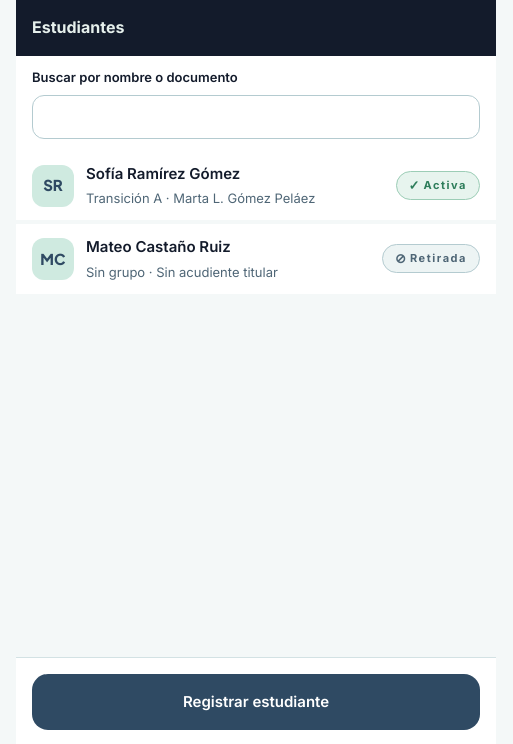
Test case: listado de estudiantes (HU01-E3) › lleva al registro de un estudiante
Click the link "Registrar estudiante" at (256, 702), box [32,674,480,730]
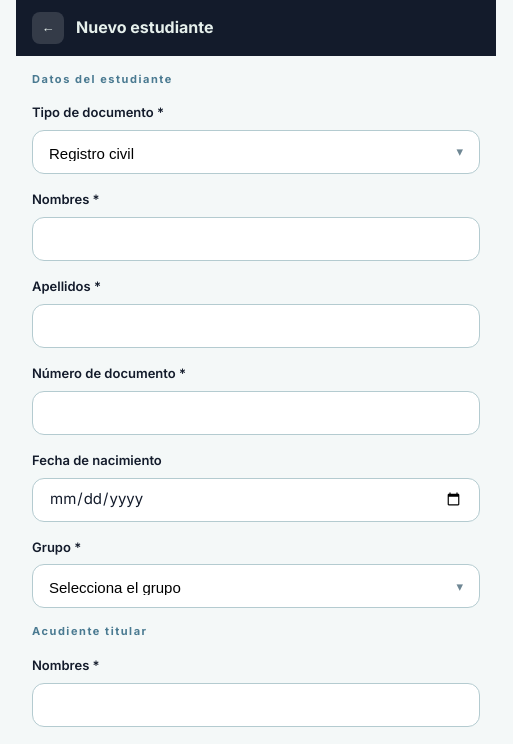
Expected: the text "Nuevo estudiante" is shown, [76,17,214,37]
